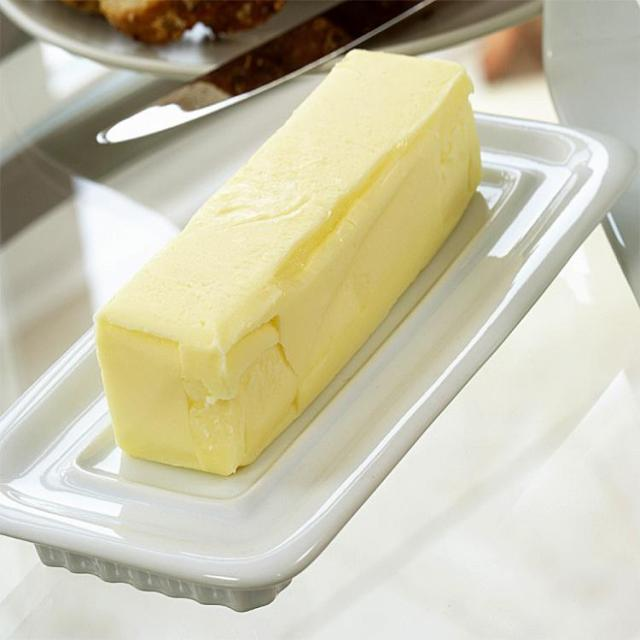Butter: (112, 48, 486, 470)
